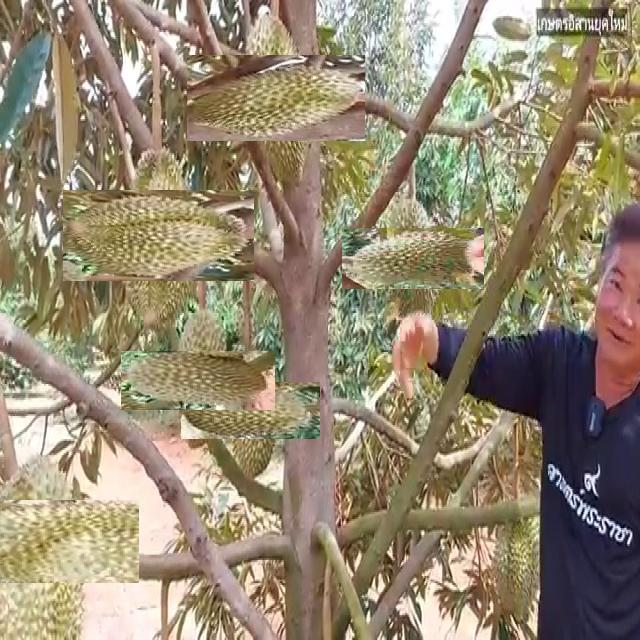durian: (88, 165, 229, 307), (209, 32, 342, 165), (0, 472, 112, 610), (145, 326, 252, 434), (362, 208, 464, 310), (201, 362, 300, 460), (487, 491, 545, 623)
